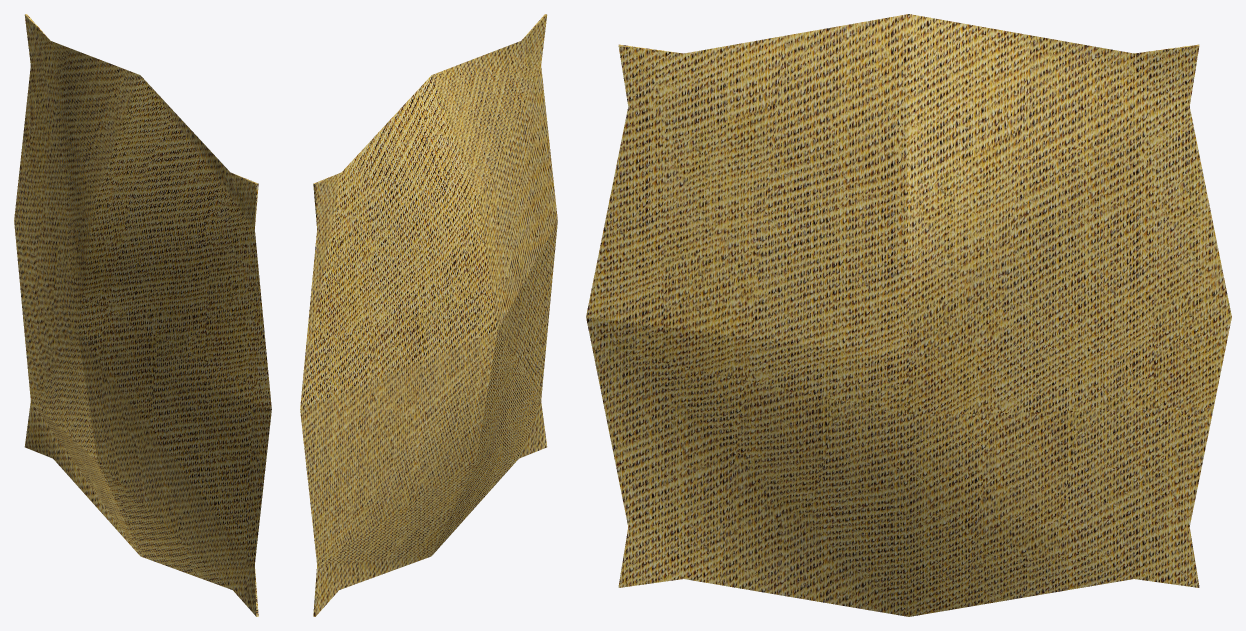
File: SmallCushion.fbx
The picture shows the model from 3 angles, left to right: view 1: azimuth 30°, elevation 25°; view 2: azimuth 150°, elevation 25°; view 3: azimuth 270°, elevation 25°; orthographic projection. The views are drawn at different scales.
Parts seen in each view (by area): view 1: Box001; view 2: Box001; view 3: Box001.
Boxes of the visible parts, left/top/right/bottom form: Box001: left=14, top=14, right=271, bottom=616; Box001: left=300, top=14, right=557, bottom=616; Box001: left=586, top=14, right=1231, bottom=616.
Bounding box in the file's own units: 1.51 × 5.26 × 5.11.
1 material, 1 textured.
